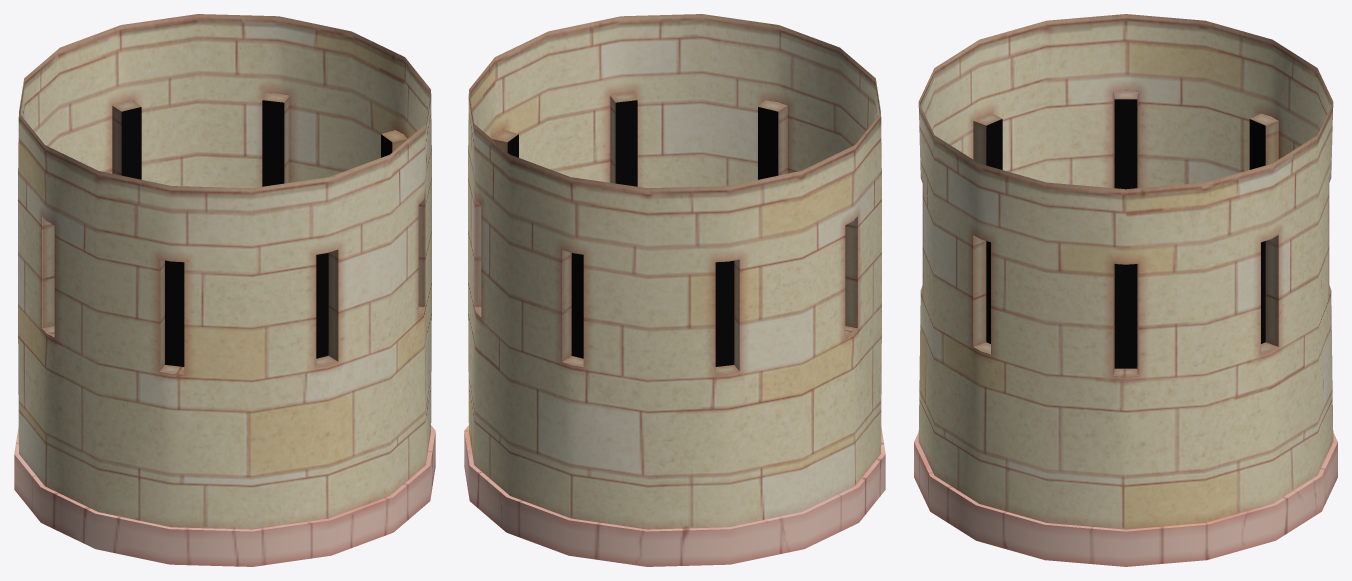
The model's file is sb_obj_outdoor024_PrincessCastle01_CircleWall01.fbx.
3 renders of one model, left to right at view 1: azimuth 30°, elevation 25°; view 2: azimuth 150°, elevation 25°; view 3: azimuth 270°, elevation 25°, orthographic.
Visible parts, largest first — view 1: sb_obj_outdoor024_PrincessCastle01_CircleWall01; view 2: sb_obj_outdoor024_PrincessCastle01_CircleWall01; view 3: sb_obj_outdoor024_PrincessCastle01_CircleWall01.
Part boxes in pixels (x1,y1,x2,y2): sb_obj_outdoor024_PrincessCastle01_CircleWall01: (14, 14, 435, 566); sb_obj_outdoor024_PrincessCastle01_CircleWall01: (464, 14, 885, 566); sb_obj_outdoor024_PrincessCastle01_CircleWall01: (914, 14, 1337, 566).
Size of the model in its own units: 3.07 by 3 by 3.07.
